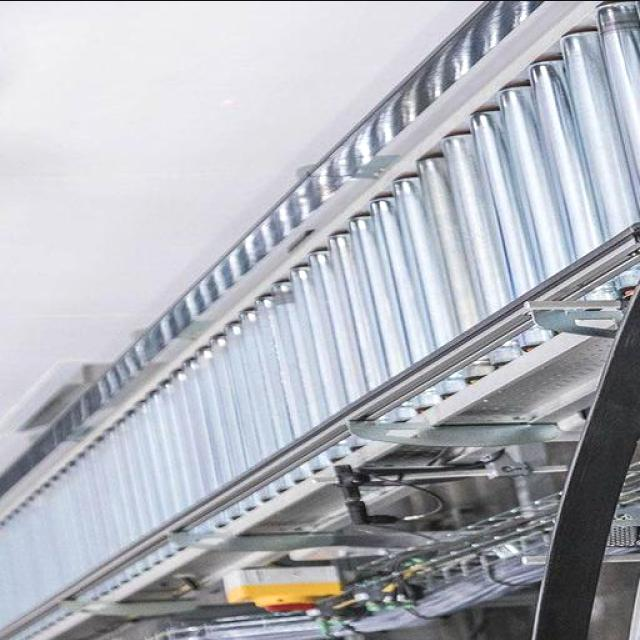conveyor: (0, 0, 640, 639)
